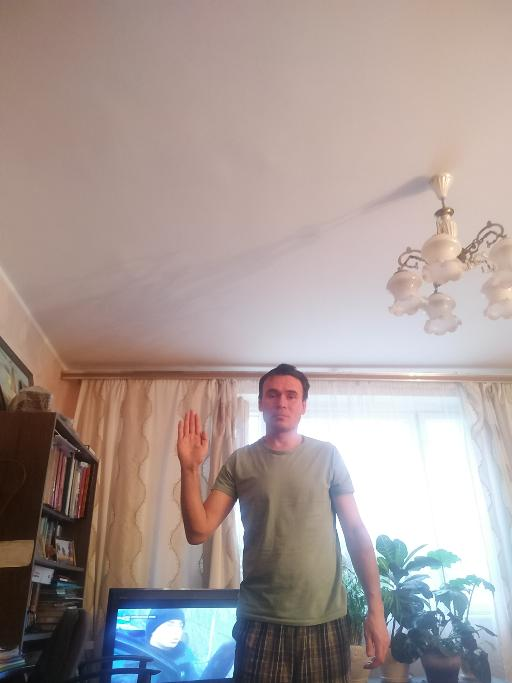no_gesture: (360, 614, 390, 669)
stop: (175, 407, 209, 466)
